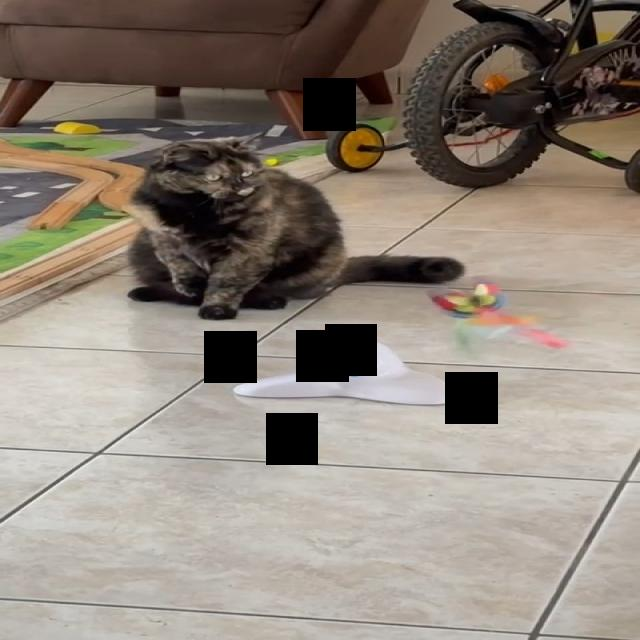authorized: (122, 131, 466, 320)
